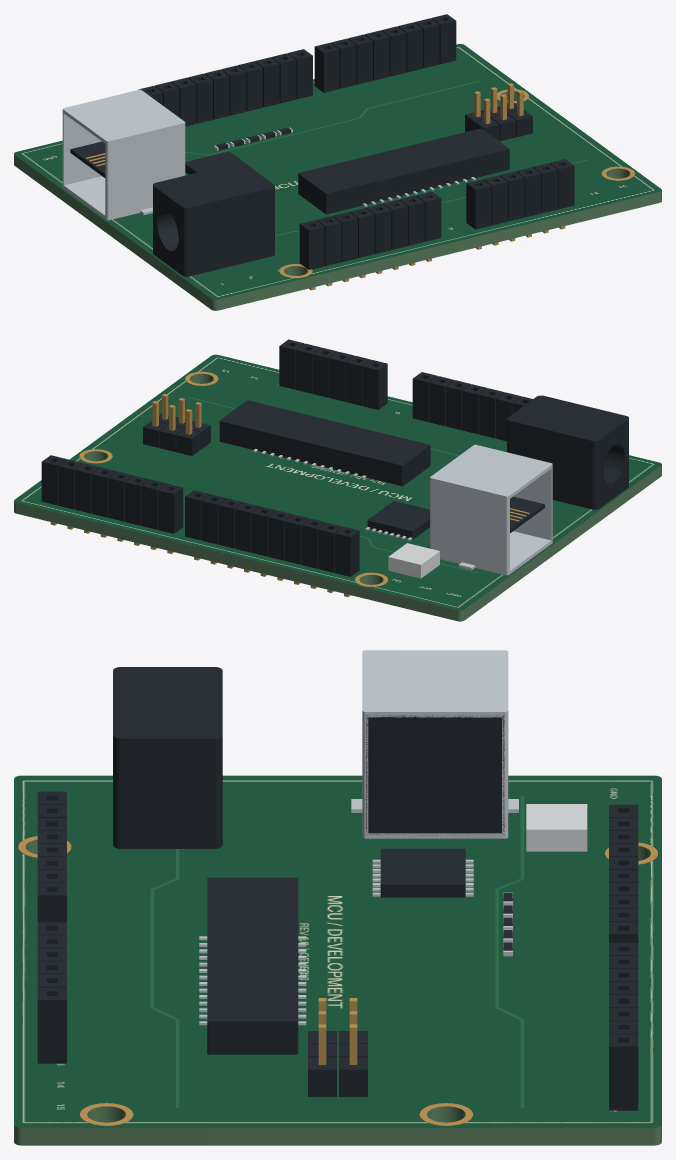
The model's file is 68-6-x-53-3-mm-uno-style-development-board.glb.
3 renders of one model, top to bottom at view 1: azimuth 30°, elevation 25°; view 2: azimuth 150°, elevation 25°; view 3: azimuth 270°, elevation 25°, orthographic. The views are drawn at different scales.
Visible parts, largest first — view 1: PCB, USB_metal_shell, Power_jack, Controller_DIP, Female_GPIO_insulator_26, Female_GPIO_insulator_10, Female_GPIO_insulator_18, Female_GPIO_insulator_5, Female_GPIO_insulator_14, Female_GPIO_insulator_17, Female_GPIO_insulator_8, Female_GPIO_insulator_29 (+26 smaller); view 2: PCB, USB_metal_shell, Power_jack, Controller_DIP, USB_interface, Reset_button, Female_GPIO_insulator_10, Female_GPIO_insulator_26, Female_GPIO_insulator_0, Female_GPIO_insulator_2, Female_GPIO_insulator_5, Female_GPIO_insulator_14 (+28 smaller); view 3: PCB, Power_jack, Controller_DIP, USB_rear_insulating_web, USB_metal_shell, USB_interface, Reset_button, Female_GPIO_insulator_17, Female_GPIO_insulator_31, Female_GPIO_insulator_25, Programming_insulator_4, Programming_insulator_5.
Part boxes in pixels (box(x1,y1,x2,y2)): PCB: box(14, 44, 661, 310); USB_metal_shell: box(62, 89, 185, 220); Power_jack: box(153, 162, 274, 276); Controller_DIP: box(298, 128, 509, 214); Female_GPIO_insulator_26: box(466, 179, 491, 229); Female_GPIO_insulator_10: box(314, 42, 339, 92); Female_GPIO_insulator_18: box(299, 220, 324, 269); Female_GPIO_insulator_5: box(221, 65, 246, 115); Female_GPIO_insulator_14: box(381, 26, 406, 76); Female_GPIO_insulator_17: box(431, 14, 456, 64); Female_GPIO_insulator_8: box(271, 53, 296, 103); Female_GPIO_insulator_29: box(516, 167, 541, 217); PCB: box(14, 354, 661, 621); USB_metal_shell: box(430, 444, 552, 575); Power_jack: box(507, 395, 628, 509); Controller_DIP: box(219, 400, 430, 486); USB_interface: box(367, 501, 429, 539); Reset_button: box(388, 543, 439, 578); Female_GPIO_insulator_10: box(158, 483, 183, 533); Female_GPIO_insulator_26: box(362, 360, 387, 409); Female_GPIO_insulator_0: box(335, 526, 359, 576); Female_GPIO_insulator_2: box(301, 518, 326, 568); Female_GPIO_insulator_5: box(251, 506, 276, 556); Female_GPIO_insulator_14: box(91, 467, 116, 517); PCB: box(14, 775, 661, 1145); Power_jack: box(113, 667, 222, 848); Controller_DIP: box(207, 877, 298, 1054); USB_rear_insulating_web: box(366, 715, 504, 835); USB_metal_shell: box(362, 650, 508, 838); USB_interface: box(380, 848, 465, 897); Reset_button: box(526, 804, 587, 851); Female_GPIO_insulator_17: box(609, 1034, 638, 1110); Female_GPIO_insulator_31: box(37, 987, 66, 1063); Female_GPIO_insulator_25: box(37, 883, 66, 922); Programming_insulator_4: box(308, 1057, 336, 1096); Programming_insulator_5: box(339, 1057, 367, 1096).
Bounding box in the file's own units: 0.0686 × 0.0161 × 0.0533.
Materials: 6 (6 with a texture image).
